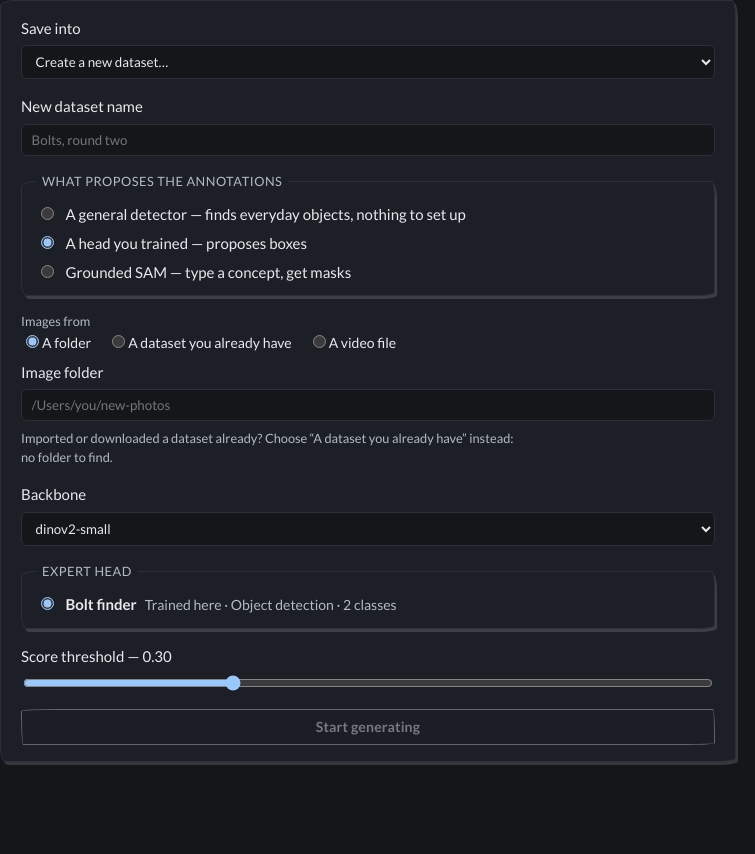
Test: a prompted detector in foundation mode (doc 66) › shows it for a mask model listed as a detector too
The width and height of the screenshot is (755, 854).
Expected: the radio button labelled "Bolt finder Trained here · Object detection · 2 classes" is shown, x1=41 y1=597 x2=54 y2=610
Click the radio button labelled "general detector" at (48, 214), box x1=41 y1=207 x2=54 y2=220
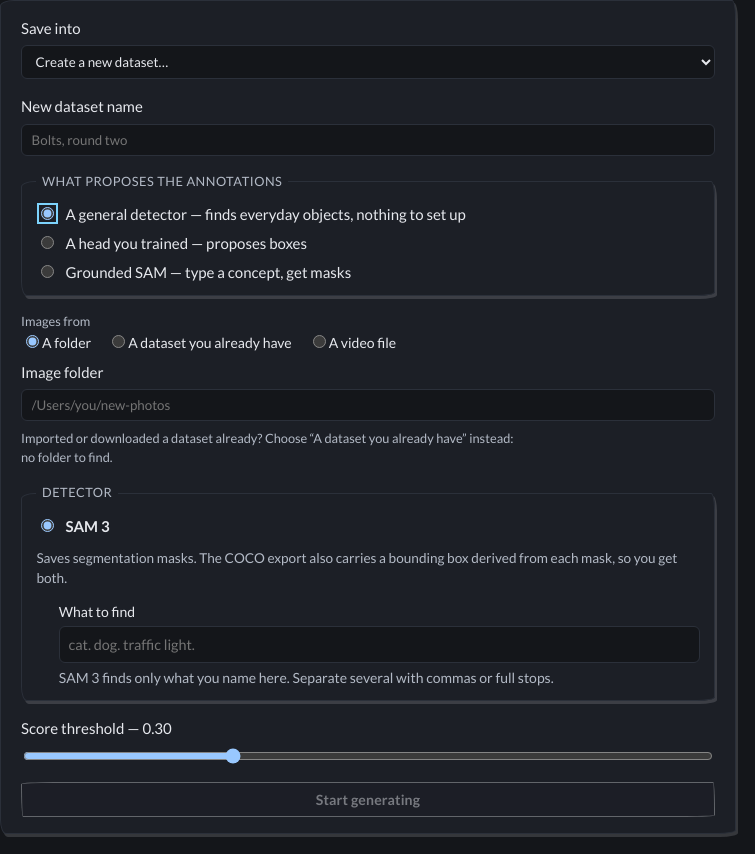
Now the radio button labelled "SAM 3" is shown, box x1=41 y1=519 x2=54 y2=532
Now the field labelled "What to find" is shown, box x1=59 y1=626 x2=700 y2=663
